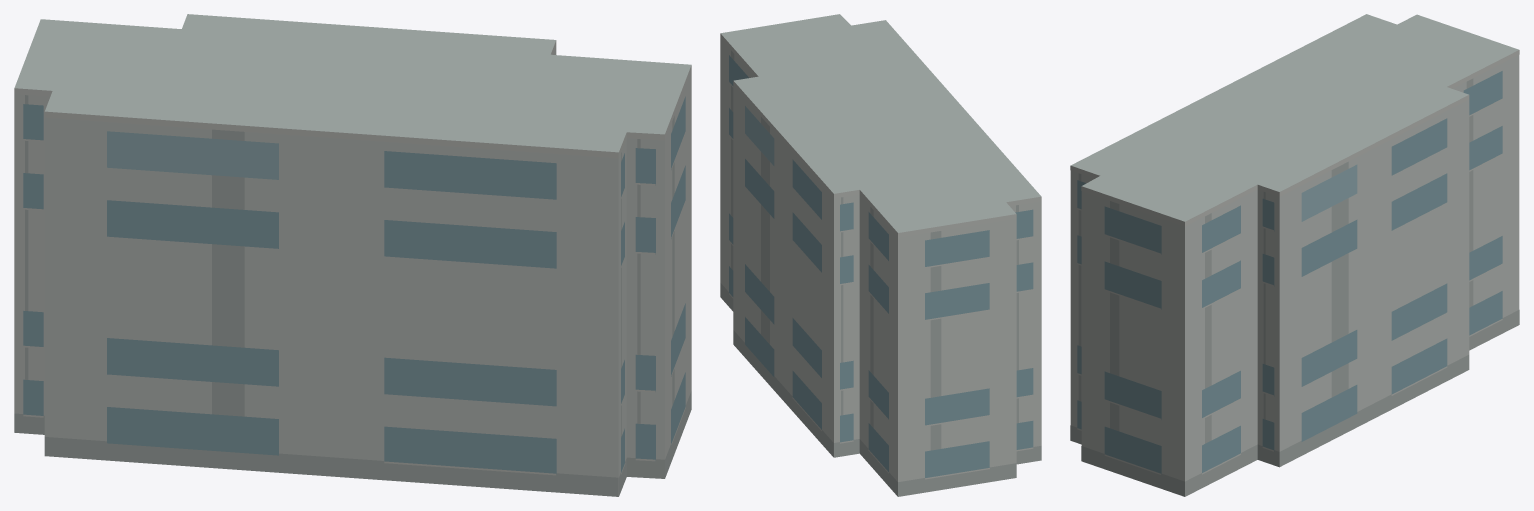
Rendered from survey-upis-32807107.glb.
The picture shows the model from 3 angles, left to right: view 1: azimuth 30°, elevation 25°; view 2: azimuth 150°, elevation 25°; view 3: azimuth 270°, elevation 25°; orthographic projection. The views are drawn at different scales.
Parts seen in each view (by area): view 1: survey-upis-32807107.tmp; view 2: survey-upis-32807107.tmp; view 3: survey-upis-32807107.tmp.
Part boxes in pixels (x1=…): survey-upis-32807107.tmp: x1=14, y1=14, x2=691, y2=496; survey-upis-32807107.tmp: x1=720, y1=14, x2=1041, y2=496; survey-upis-32807107.tmp: x1=1070, y1=14, x2=1519, y2=496.
Size of the model in its own units: 22.23 by 13.72 by 20.3.
